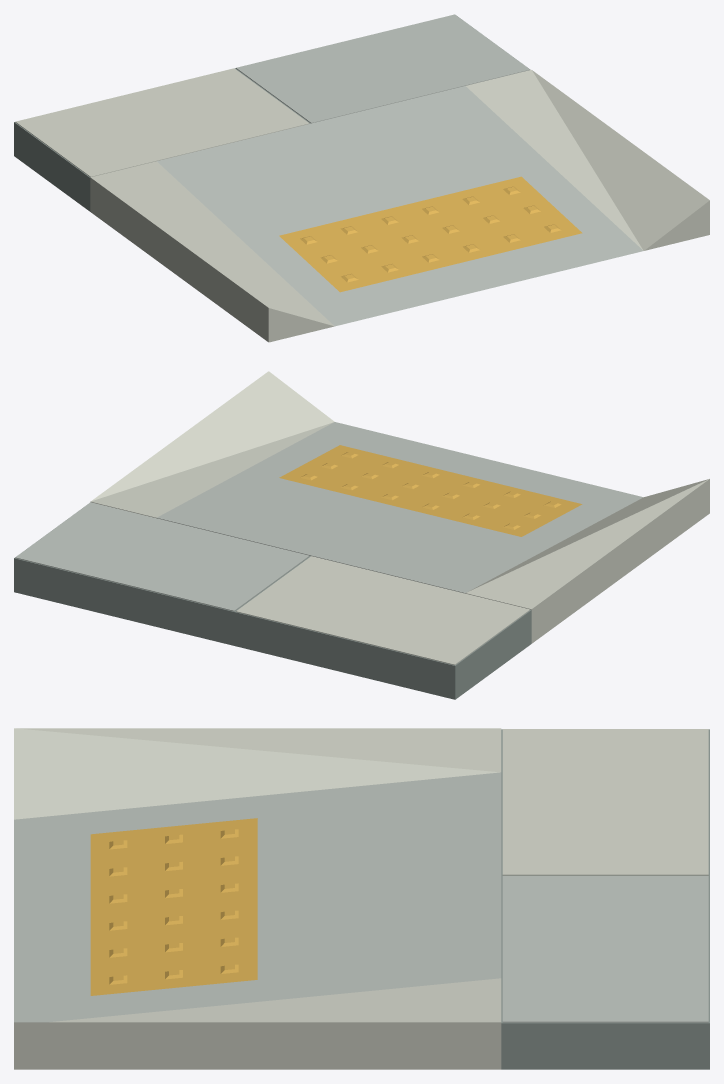
File: sidewalk_ramp.glb
The picture shows the model from 3 angles, top to bottom: view 1: azimuth 30°, elevation 25°; view 2: azimuth 150°, elevation 25°; view 3: azimuth 270°, elevation 25°; orthographic projection. The views are drawn at different scales.
Parts seen in each view (by area): view 1: sidewalk_ramp; view 2: sidewalk_ramp; view 3: sidewalk_ramp.
Part boxes in pixels (bbox=[...]): sidewalk_ramp: bbox=[14, 14, 709, 342]; sidewalk_ramp: bbox=[14, 371, 709, 699]; sidewalk_ramp: bbox=[14, 728, 709, 1069].
Bounding box in the file's own units: 2 × 0.15 × 2.
